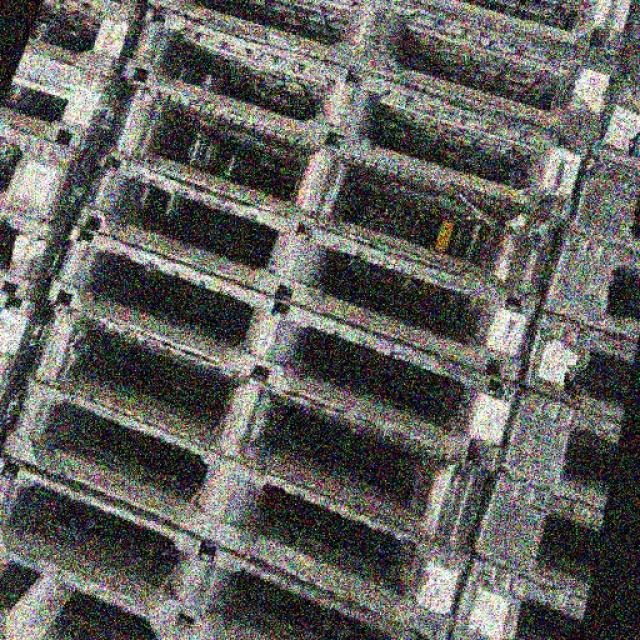igps: (27, 280, 500, 564), (0, 365, 478, 639), (44, 217, 528, 477), (68, 140, 546, 390), (97, 58, 568, 308), (113, 0, 595, 225), (0, 446, 426, 640), (136, 0, 632, 161), (466, 454, 612, 610), (490, 379, 626, 522), (516, 294, 640, 433), (0, 44, 140, 157), (406, 0, 640, 64), (535, 214, 640, 354), (445, 546, 595, 640), (0, 112, 109, 240), (16, 0, 153, 82), (561, 144, 640, 260), (0, 192, 78, 309), (581, 65, 640, 175), (0, 281, 58, 383)
